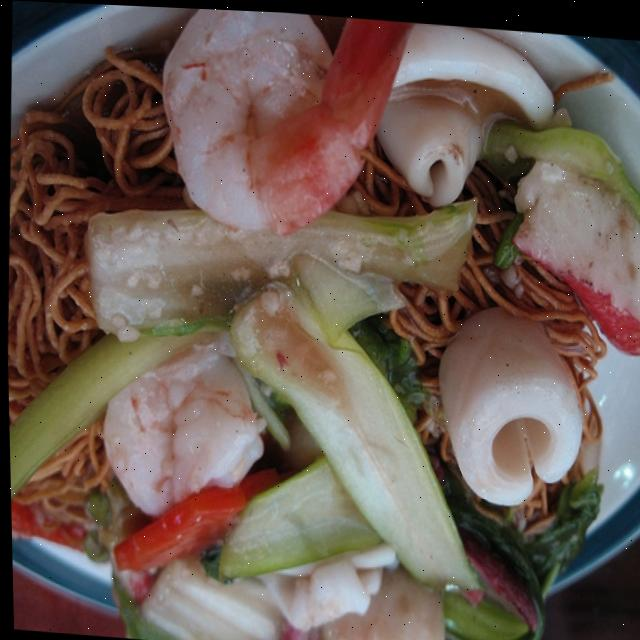面条主食: (1, 21, 636, 638)
